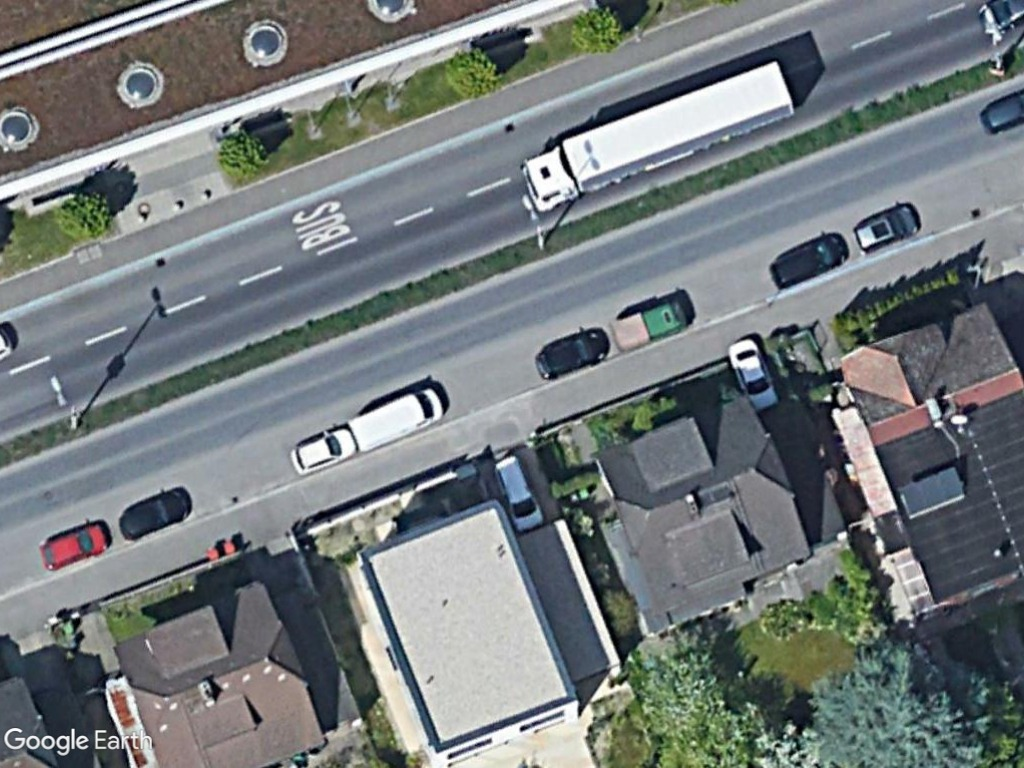car: (529, 323, 611, 384), (488, 454, 547, 536), (116, 482, 194, 544), (36, 516, 114, 572), (724, 336, 778, 414), (288, 421, 359, 475), (852, 201, 922, 255)
longvehicle: (514, 57, 804, 212)
van: (344, 381, 448, 456), (765, 231, 848, 288)
